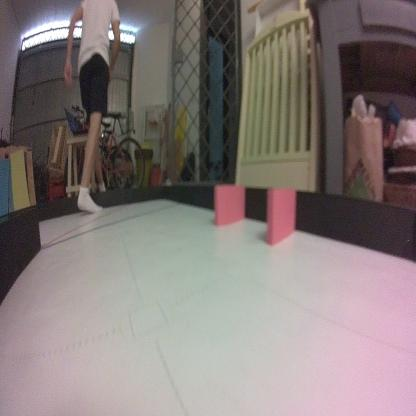magenta: (265, 189, 295, 244), (212, 180, 246, 226)
